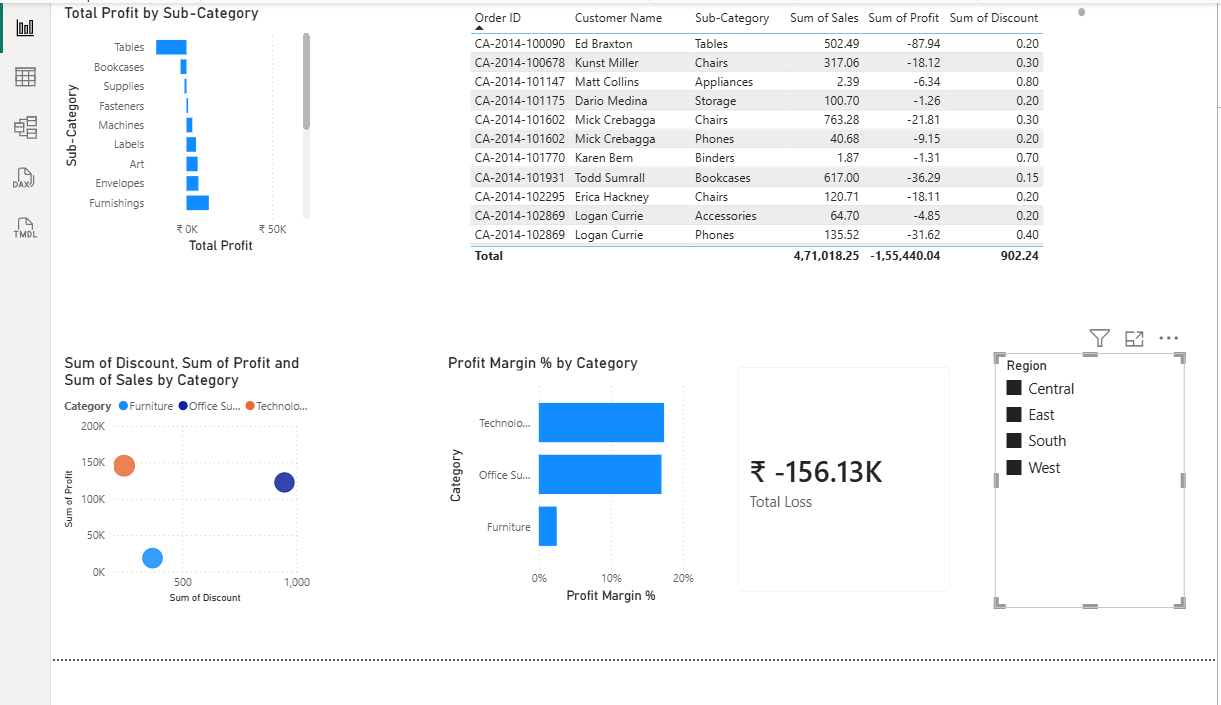

Layout of this report page (visuals, bound fields, positions):
{"tool":"powerbi","page":{"name":"profit analysis","canvas":[1280,720],"ordinal":1},"visuals":[{"type":"clusteredBarChart","fields":{"Y":["Dim_Date.Total Profit"],"Category":["Sample - Superstore.Sub-Category"]},"box":[10,0,280,280],"z":0},{"type":"tableEx","fields":{"Values":["Sample - Superstore.Order ID","Sample - Superstore.Customer Name","Sample - Superstore.Sub-Category","Sum(Sample - Superstore.Sales)","Sum(Sample - Superstore.Profit)","Sum(Sample - Superstore.Discount)"]},"box":[453.8,0,686.6,292.1],"z":1000},{"type":"scatterChart","fields":{"X":["Sum(Sample - Superstore.Discount)"],"Y":["Sum(Sample - Superstore.Profit)"],"Size":["Sum(Sample - Superstore.Sales)"],"Series":["Sample - Superstore.Category"]},"box":[9.6,384.2,279.9,279.9],"z":2000},{"type":"clusteredBarChart","fields":{"Category":["Sample - Superstore.Category"],"Y":["Dim_Date.Profit Margin %"]},"box":[430.9,384.2,279.9,279.9],"z":3000},{"type":"slicer","fields":{"Values":["Sample - Superstore.Region"]},"box":[1036,384.2,208.6,279.9],"z":4000},{"type":"cardVisual","fields":{"Data":["Dim_Date.Total Loss"]},"box":[736.9,382.8,267.6,281.3],"z":5000}]}

Visuals, with their boxes on the page's 1280x720 design canvas (x1, y1, x2, y2). These are canvas units, not pixel positions in the 1221x705 screenshot, which may show the page scaled, cropped or inside an application window:
clusteredBarChart - Dim_Date.Total Profit x Sample - Superstore.Sub-Category: (10, 0, 290, 280)
tableEx - Sample - Superstore.Order ID x Sample - Superstore.Customer Name: (454, 0, 1140, 292)
scatterChart - Sum(Sample - Superstore.Discount) x Sum(Sample - Superstore.Profit): (10, 384, 290, 664)
clusteredBarChart - Sample - Superstore.Category x Dim_Date.Profit Margin %: (431, 384, 711, 664)
slicer - Sample - Superstore.Region: (1036, 384, 1245, 664)
cardVisual - Dim_Date.Total Loss: (737, 383, 1004, 664)
